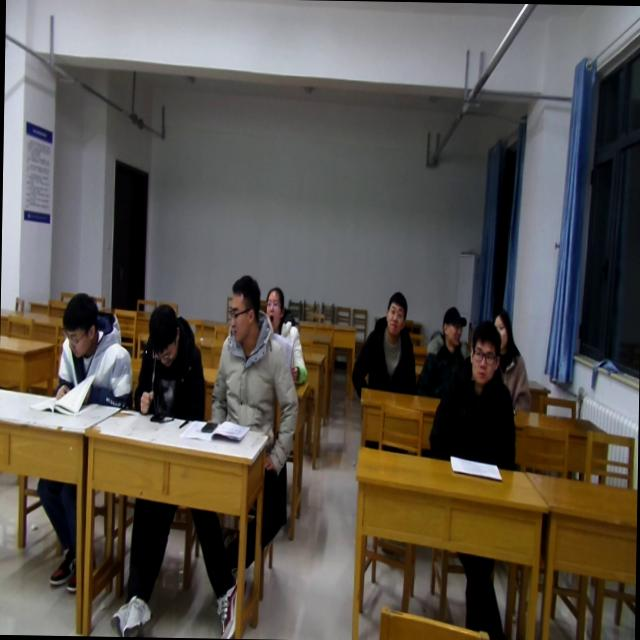down: (58, 284, 99, 362), (144, 301, 180, 370)
lookup: (468, 318, 500, 388), (264, 278, 290, 330), (382, 286, 408, 338), (492, 304, 517, 352)
sit: (208, 274, 300, 435), (429, 316, 519, 469), (51, 288, 136, 411), (133, 302, 207, 421), (349, 289, 418, 394), (416, 304, 472, 398), (487, 304, 534, 412), (262, 285, 310, 385)
